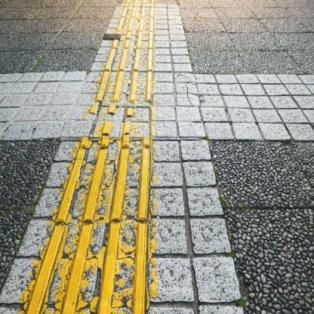Podoctatil: (23, 3, 155, 309)
